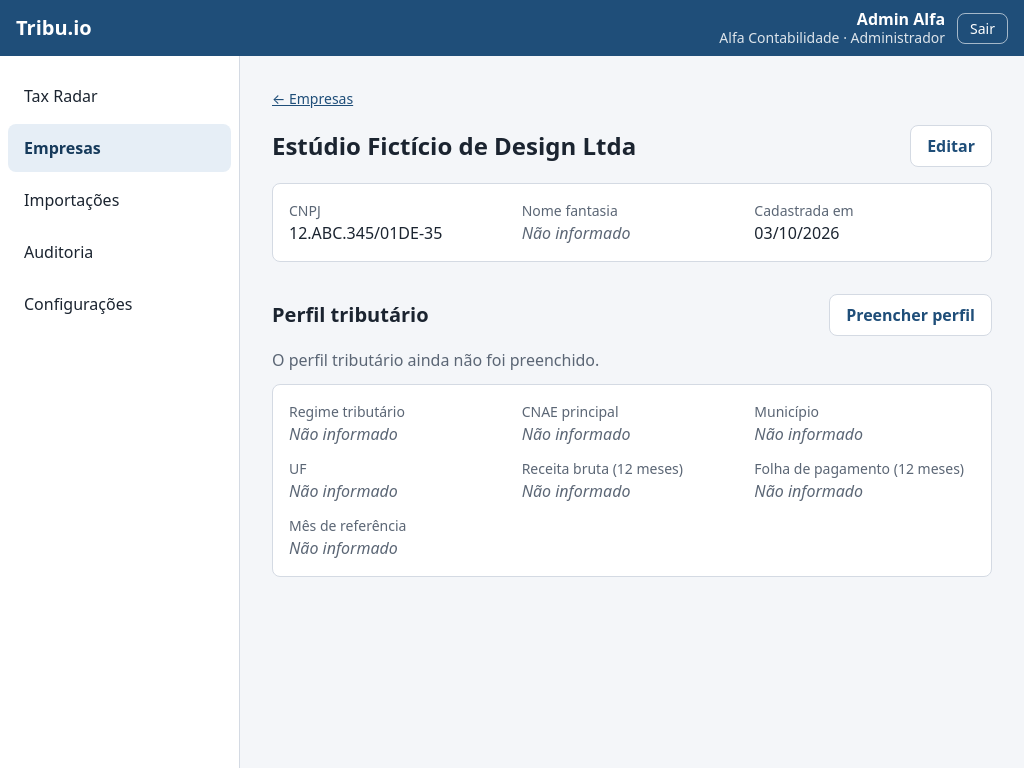
Test: perfil tributário › preenche o perfil: valores em reais e CNAE com máscara; campo vazio vai como null
Click the button "Preencher perfil".
click(911, 315)  # box 829,294 -> 992,336
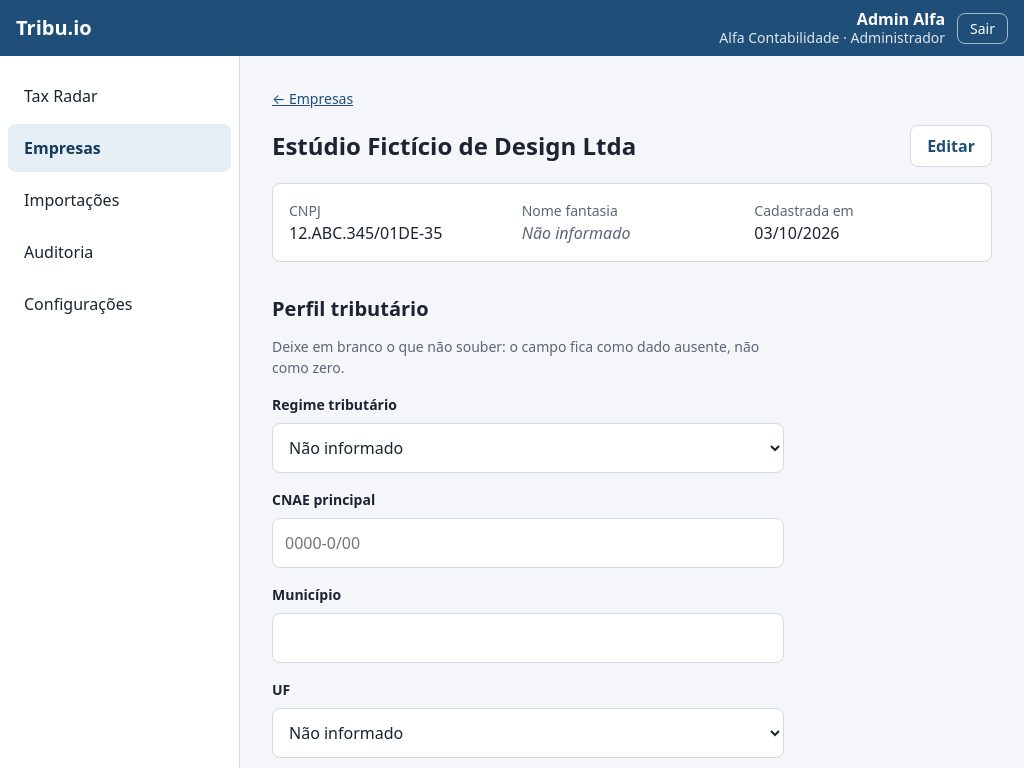
Select "Simples Nacional" in the dropdown labelled "Regime tributário" at (528, 448), box 272,423 -> 784,473
Type "7410202" into the field labelled "CNAE principal".
click(528, 543); type("7410202")  # box 272,518 -> 784,568
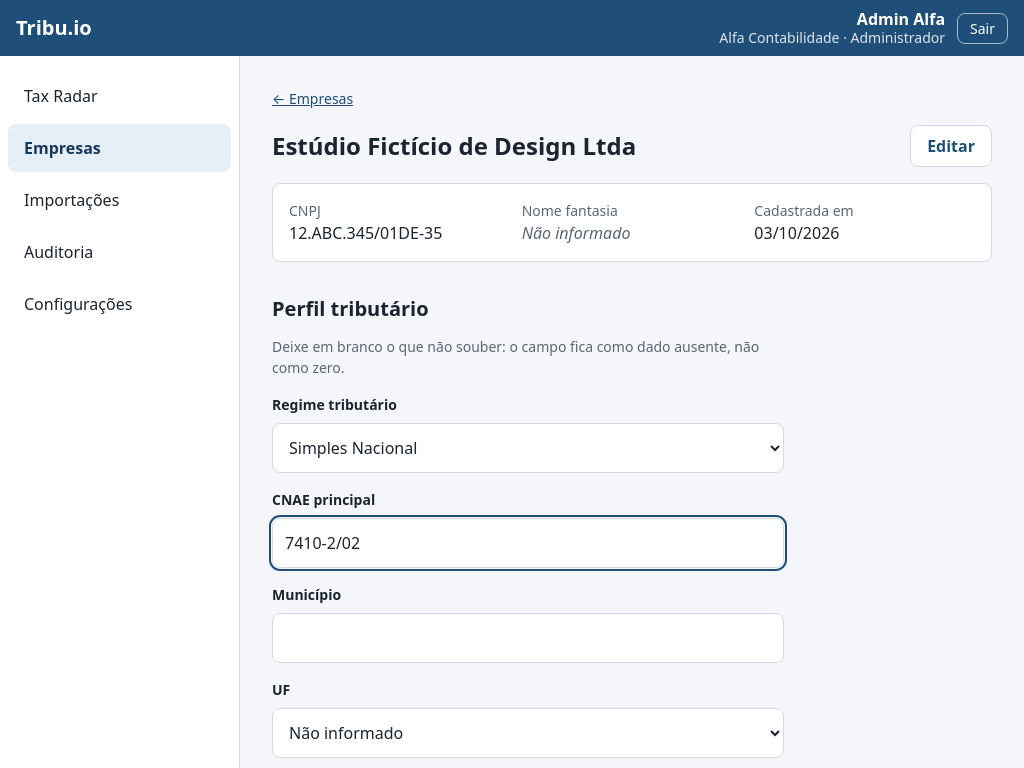
Check: the field labelled "CNAE principal" holds "7410-2/02", box 272,518 -> 784,568
Type "Santos" into the field labelled "Município".
click(528, 638); type("Santos")  # box 272,613 -> 784,663
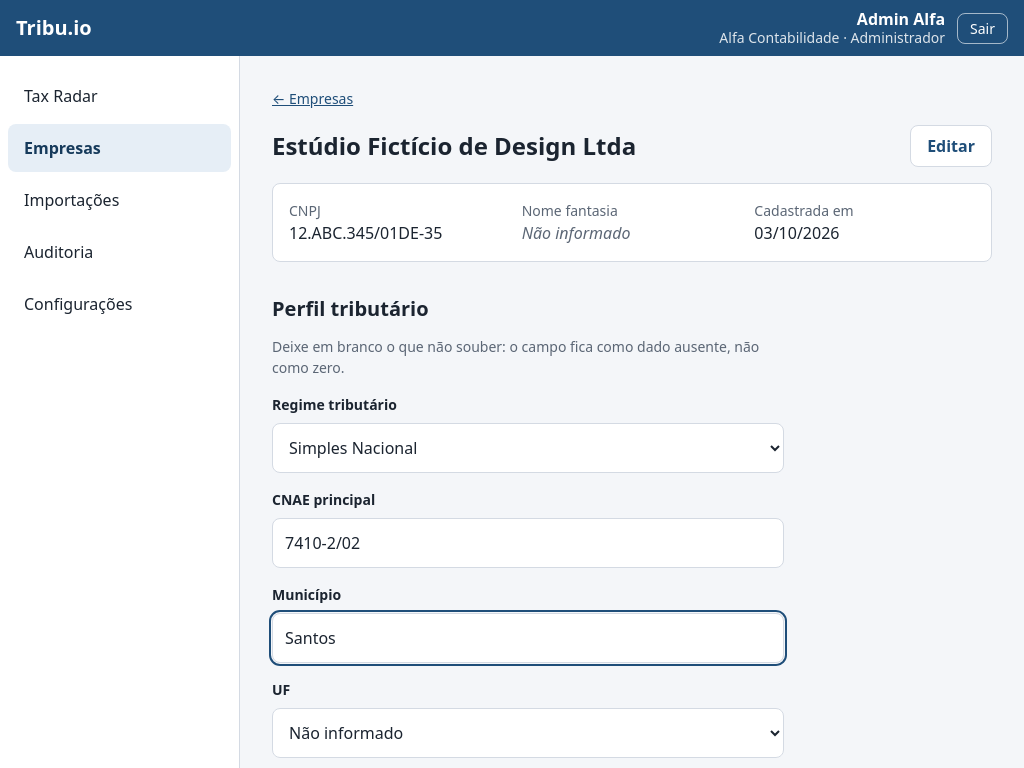
Select "SP" in the dropdown labelled "UF" at (528, 733), box 272,708 -> 784,758
(page scrolled)
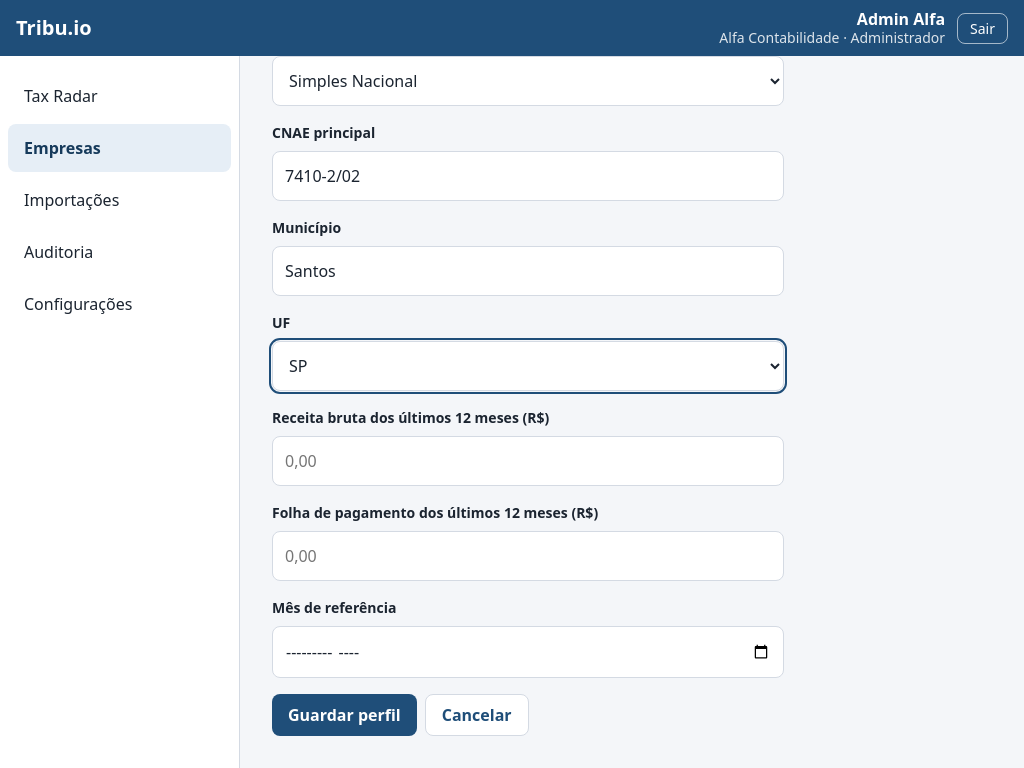
Type "480.000,00" into the field labelled "Receita bruta dos últimos 12 meses (R$)".
click(528, 461); type("480.000,00")  # box 272,436 -> 784,486
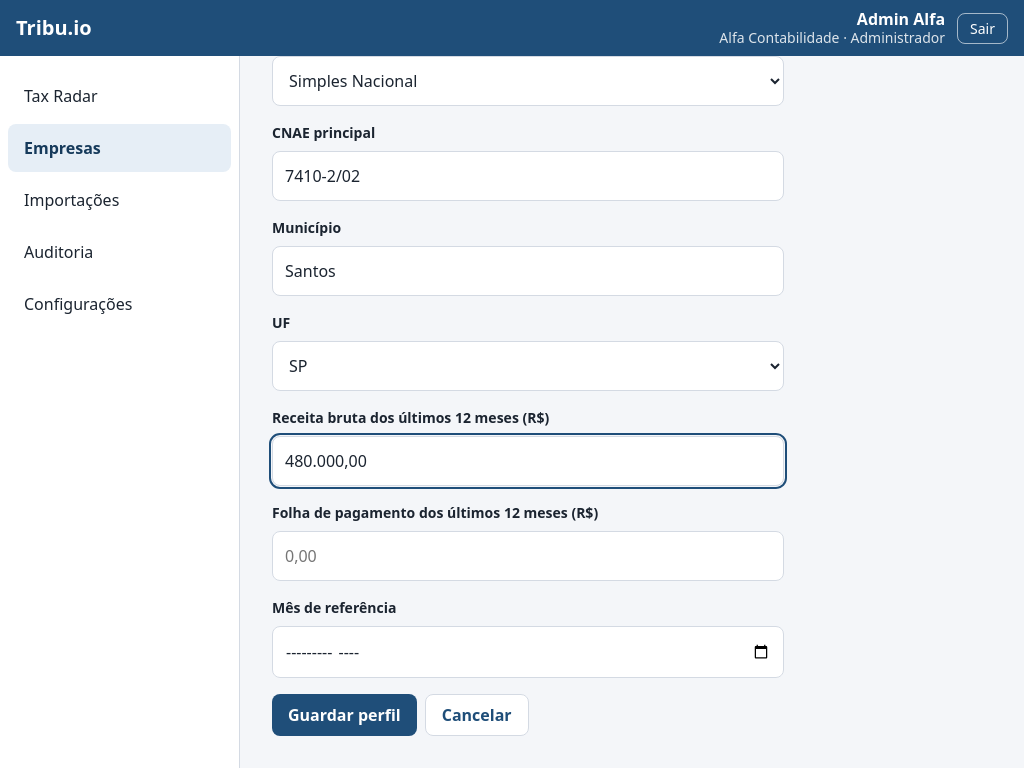
Type "2026-09" into the field labelled "Mês de referência".
click(528, 652); type("2026-09")  # box 272,626 -> 784,678
Click the button "Guardar perfil".
click(344, 715)  # box 272,694 -> 417,736
(page scrolled)
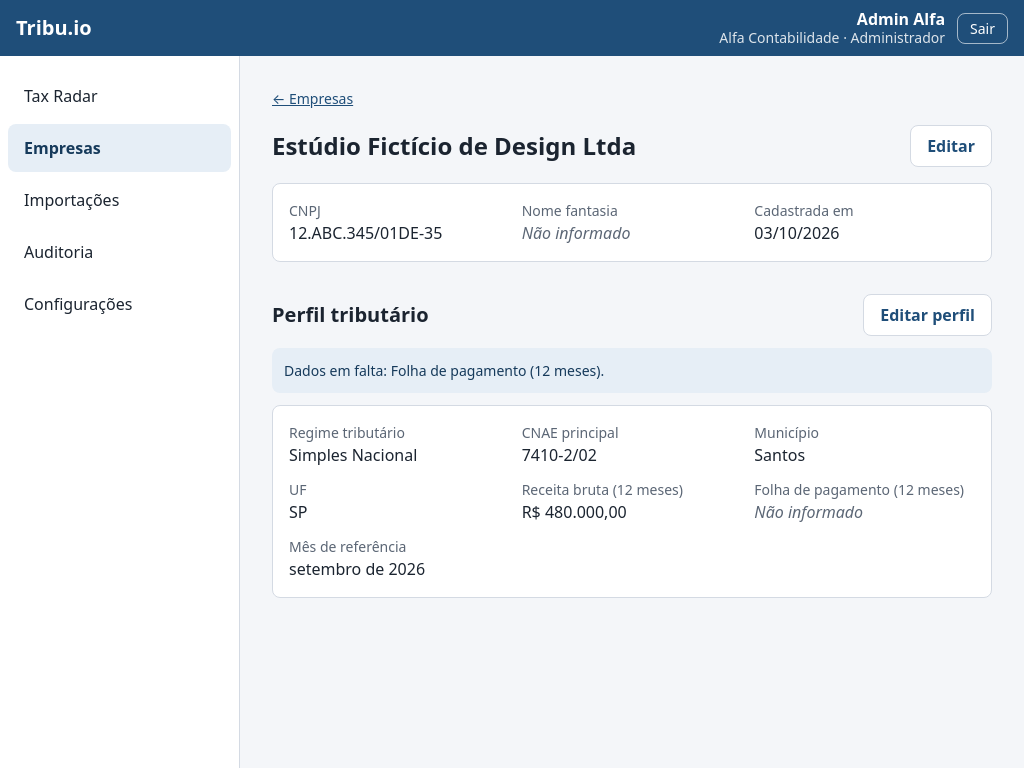
Check: the text "Simples Nacional" is shown, box 289,444 -> 417,466
